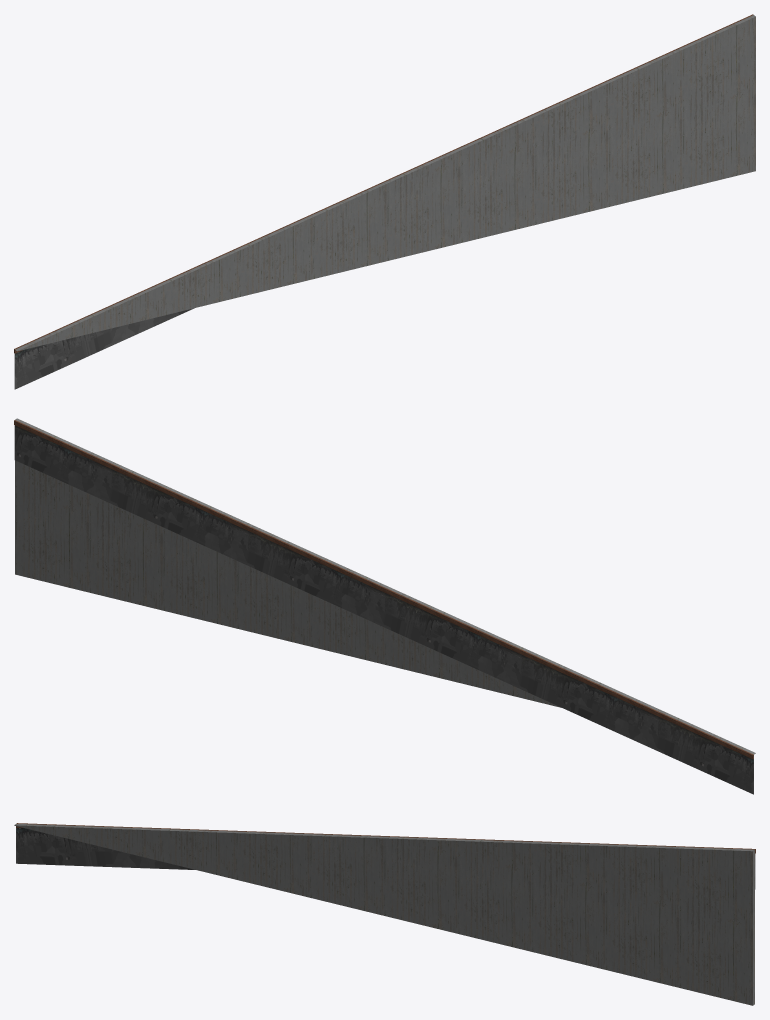
The model's file is Kit_HorizontalRoofAsbestosBig.fbx.
3 renders of one model, top to bottom at view 1: azimuth 30°, elevation 25°; view 2: azimuth 150°, elevation 25°; view 3: azimuth 330°, elevation 25°, orthographic.
Parts seen in each view (by area): view 1: Kit_HorizontalRoofAsbestosBig; view 2: Kit_HorizontalRoofAsbestosBig; view 3: Kit_HorizontalRoofAsbestosBig.
Part boxes in pixels (x1,y1,x2,y2): Kit_HorizontalRoofAsbestosBig: (14, 14, 755, 389); Kit_HorizontalRoofAsbestosBig: (14, 418, 755, 794); Kit_HorizontalRoofAsbestosBig: (14, 823, 755, 1005).
Size of the model in its own units: 787 by 198 by 5.68.
